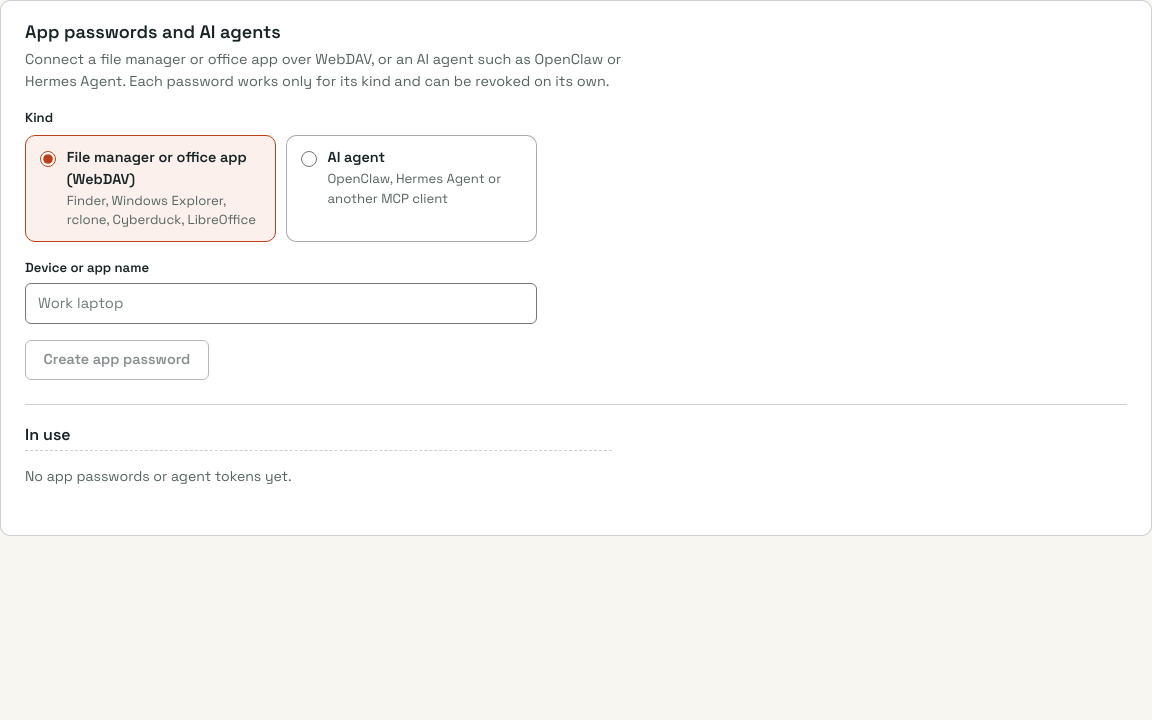
it: AppPasswords › shows a new password once, lists it without the secret and revokes after confirming
Type "Laptop" into the field labelled "Device or app name" at coordinates (281, 303), box [25,283,537,324]
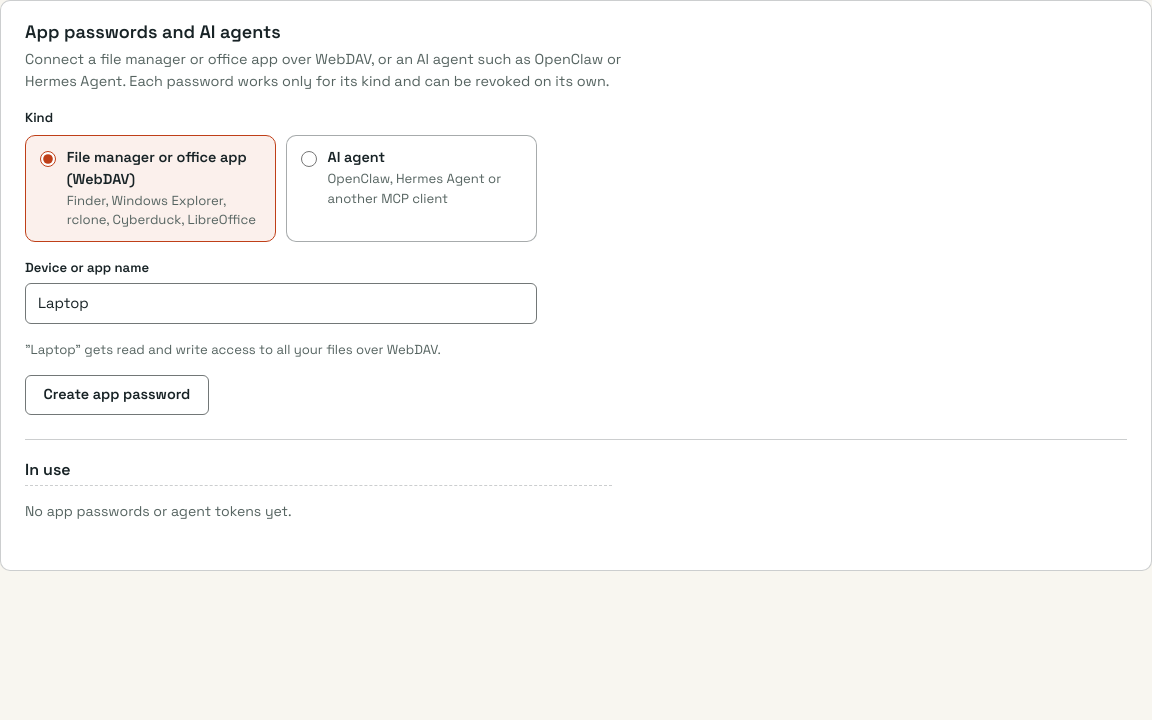
Expected: the text "\"Laptop\" gets read and write access to all your files over WebDAV." is shown, [25,340,441,358]
Click the button "Create app password" at coordinates (117, 394), box [25,374,209,414]
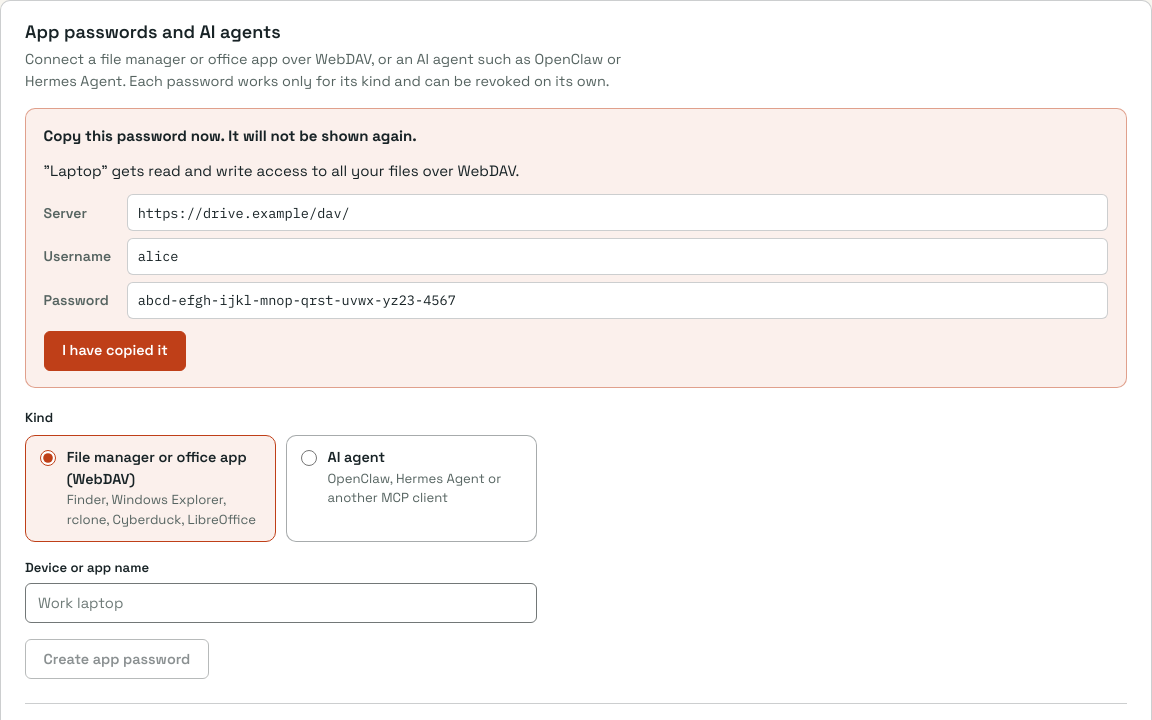
Expected: the text "\"Laptop\" gets read and write access to all your files over WebDAV." is shown, [44,161,519,180]
Expected: the text "abcd-efgh-ijkl-mnop-qrst-uvwx-yz23-4567" is shown, [127,282,1108,319]
Expected: the text "https://drive.example/dav/" is shown, [127,194,1108,231]
Click the button "I have copied it" at coordinates (115, 351), box [44,331,186,371]
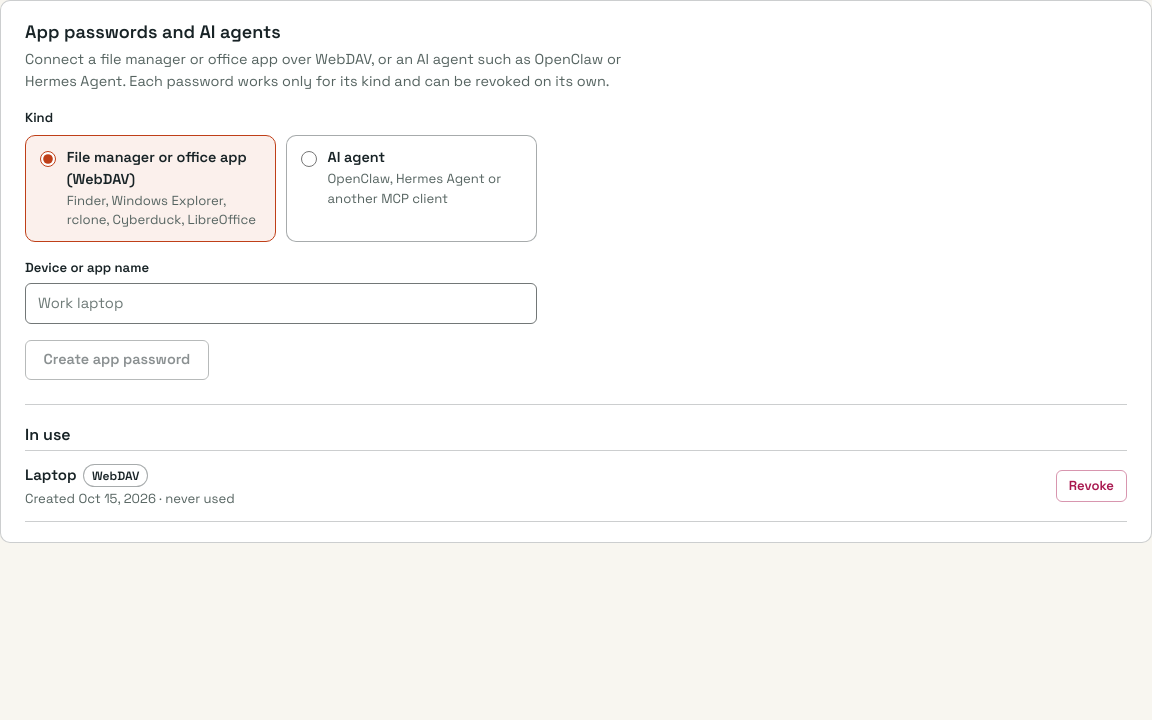
Expected: the text "abcd-efgh-ijkl-mnop-qrst-uvwx-yz23-4567" is gone
Click the button "Revoke" at coordinates (1091, 486), box [1056,470,1127,502]
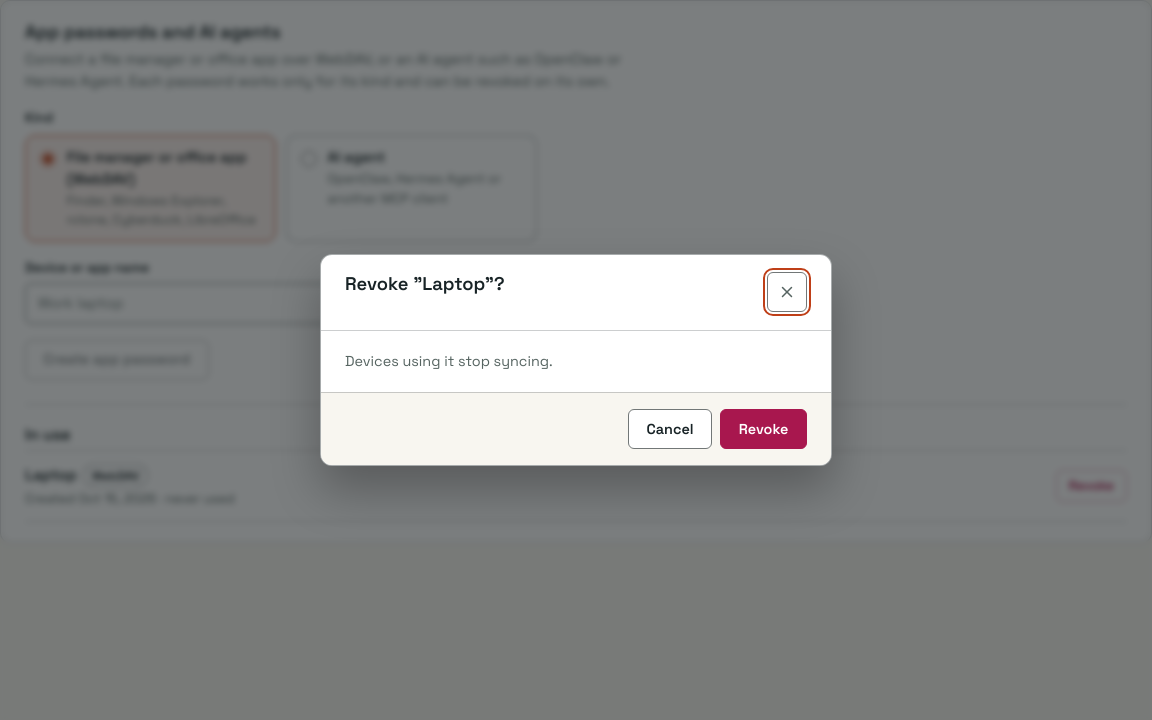
Expected: the dialog shows "Devices using it stop syncing.", [345,352,553,370]
Click the button "Revoke" at coordinates (764, 429), box [720,409,807,449]
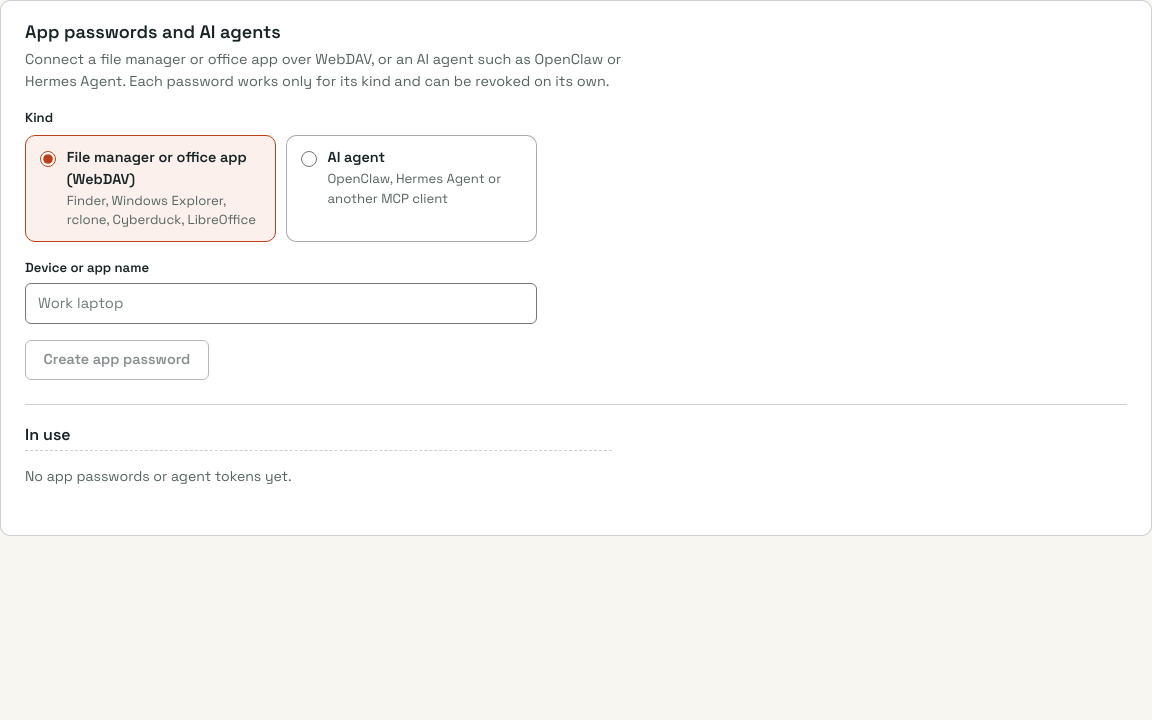
Expected: the text "No app passwords or agent tokens yet." is shown, [25,450,612,501]
